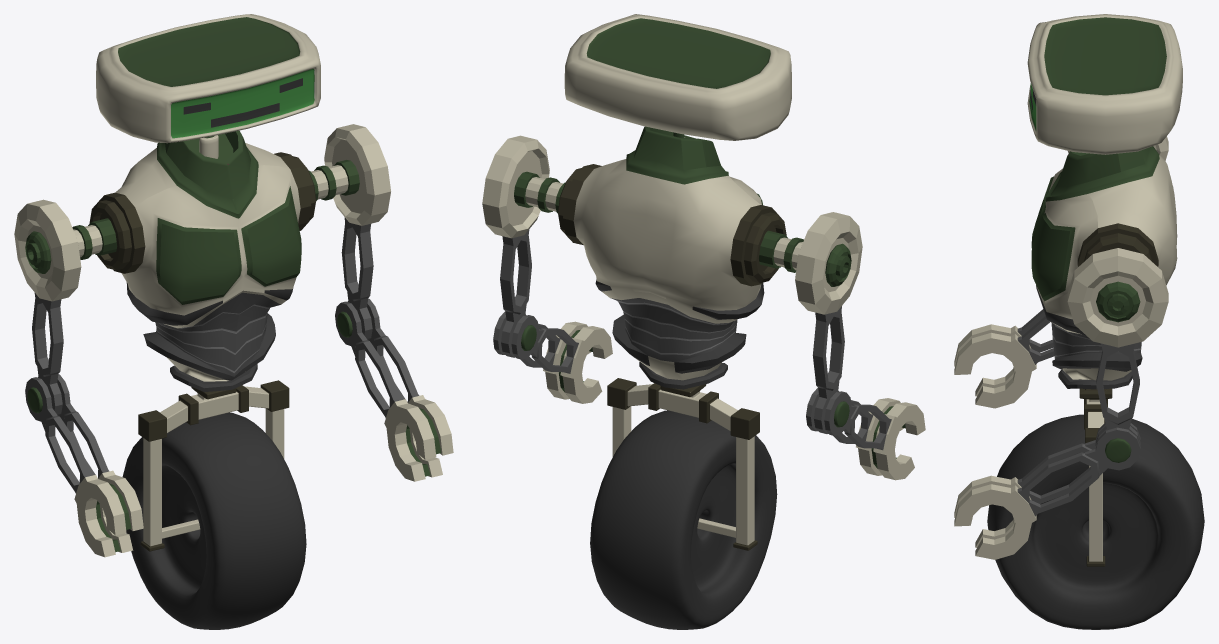
Rendered from npcRobo9.fbx.
The picture shows the model from 3 angles, left to right: view 1: azimuth 30°, elevation 25°; view 2: azimuth 150°, elevation 25°; view 3: azimuth 270°, elevation 25°; orthographic projection.
Visible parts, largest first — view 1: npcRobo9; view 2: npcRobo9; view 3: npcRobo9.
Boxes of the visible parts, x1,y1,x2,y2 form: npcRobo9: (14, 14, 453, 629); npcRobo9: (482, 14, 925, 629); npcRobo9: (954, 14, 1204, 629).
Size of the model in its own units: 136 by 213 by 85.93.
